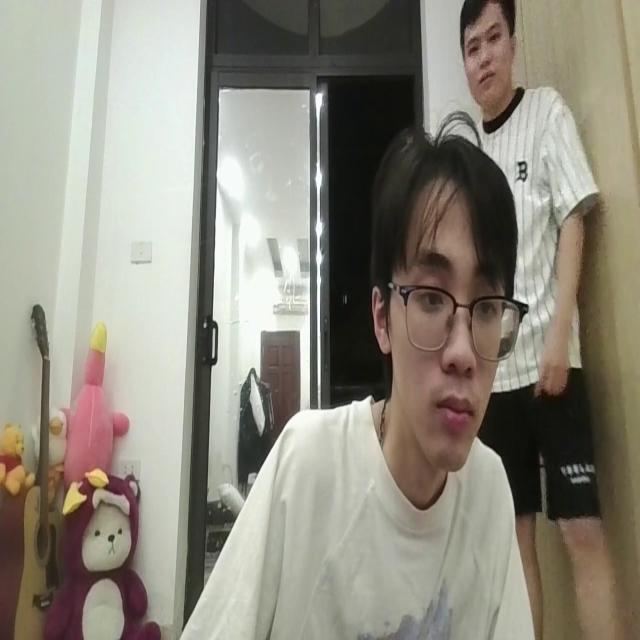extra_person: (460, 0, 634, 640)
student: (171, 130, 534, 640)
